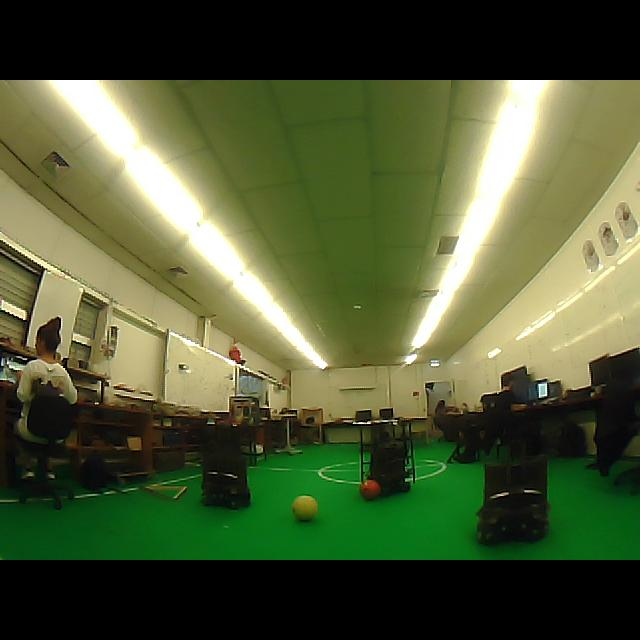ball: (292, 496, 318, 521), (360, 480, 381, 499)
robot: (476, 456, 548, 544), (360, 420, 416, 496), (202, 425, 251, 508)
